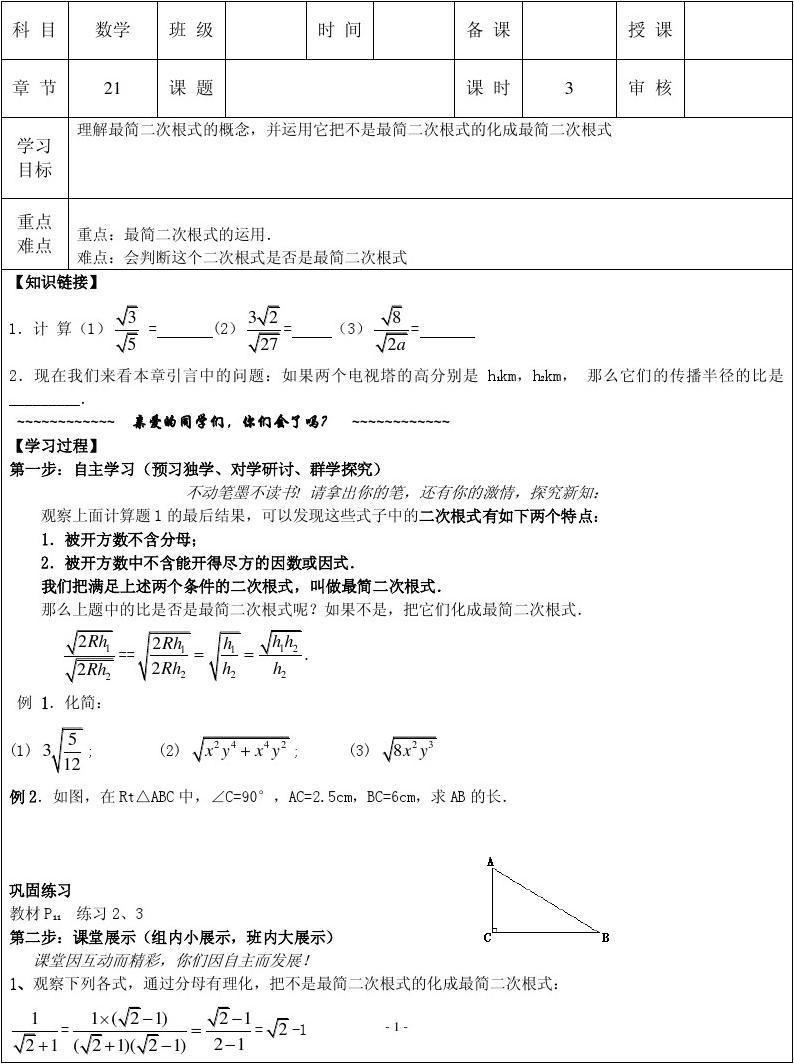cube: (430, 742, 435, 747)
division: (73, 1026, 189, 1036), (246, 325, 293, 338), (63, 651, 114, 662), (114, 324, 150, 336), (373, 325, 411, 336), (204, 1026, 250, 1035), (257, 650, 306, 658), (150, 651, 189, 661), (8, 1027, 56, 1035), (219, 652, 239, 660), (63, 748, 80, 755)
sqrt: (188, 734, 301, 766), (139, 625, 191, 688), (383, 730, 438, 767), (258, 620, 309, 658), (69, 652, 117, 687), (214, 627, 241, 679), (377, 294, 411, 329), (56, 724, 80, 771), (264, 1010, 296, 1041), (378, 335, 410, 363), (121, 998, 144, 1035), (80, 630, 105, 664), (206, 1002, 235, 1027), (119, 301, 145, 326), (11, 1032, 38, 1056), (250, 332, 279, 354), (261, 303, 287, 325), (140, 1034, 163, 1057), (118, 331, 141, 352), (84, 1033, 102, 1058)
square: (210, 739, 221, 749), (409, 740, 418, 751), (279, 739, 287, 751)
